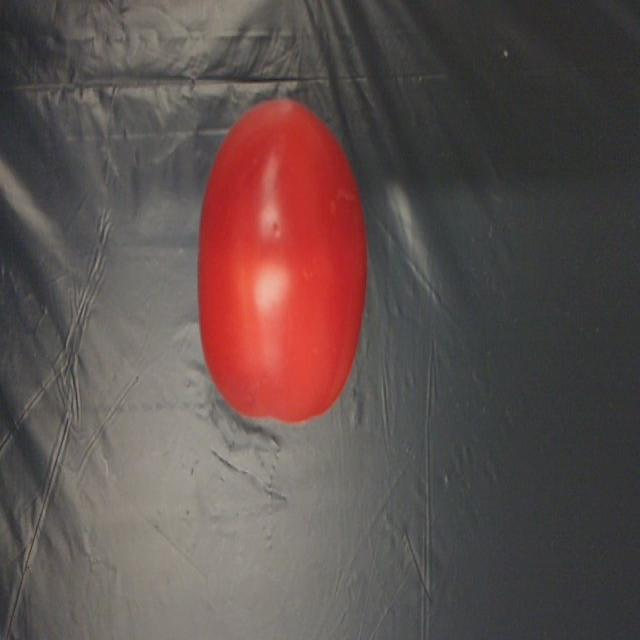kirmizi: (198, 91, 368, 423)
